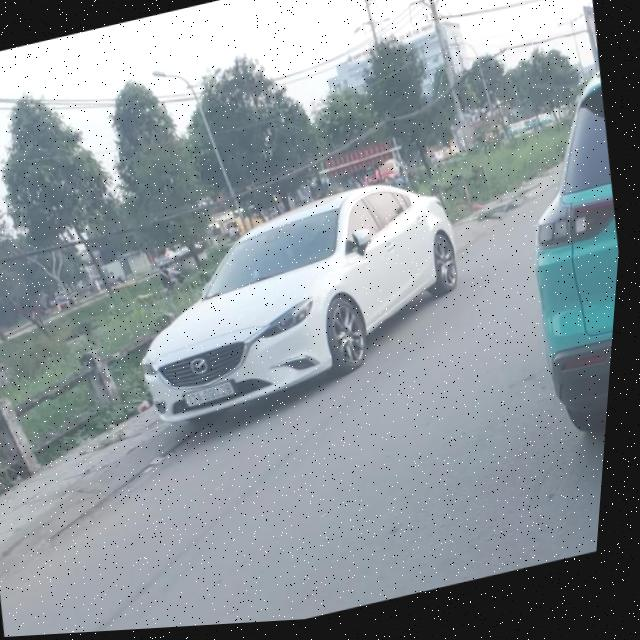car: (104, 162, 490, 450)
plate: (176, 374, 243, 416)
